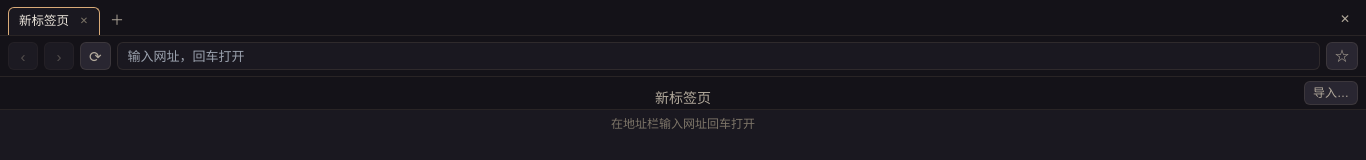
Test: 自己 create 的回声 › created 回声先到 → 只有一个标签（不是同一个页面两个标签）
The width and height of the screenshot is (1366, 160).
Type "https://example.com" into the field with class "bp-address".
click(718, 56); type("https://example.com")  # box x1=117 y1=42 x2=1320 y2=70
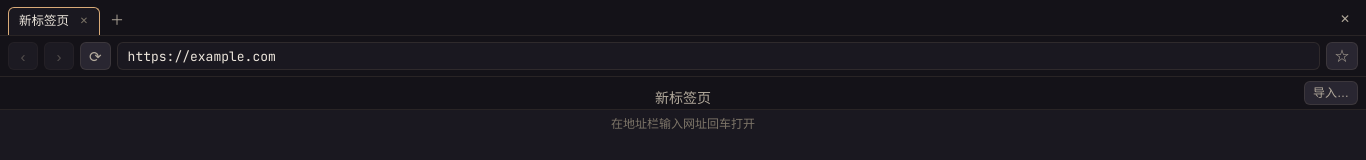
Press Enter in the field with class "bp-address", box x1=117 y1=42 x2=1320 y2=70
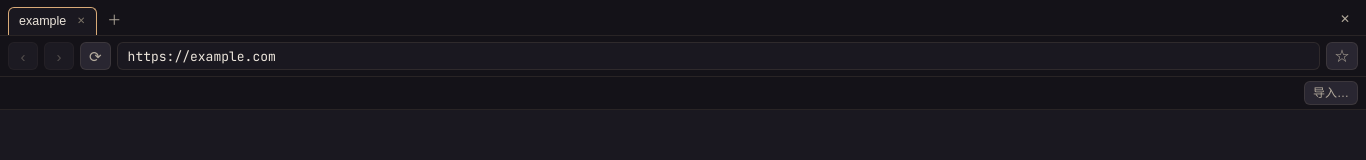
Expected: the number of elements with class "bp-tab" is 1, x1=8 y1=6 x2=97 y2=34
Result: the text with class "bp-tab-label" no longer shows "新标签页"
